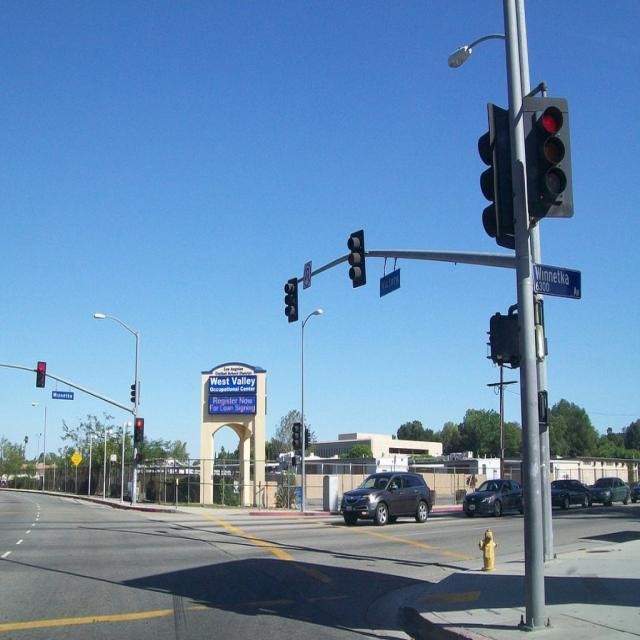off traffic light: (346, 228, 367, 288), (284, 277, 299, 323), (292, 422, 301, 450)
traffic light: (477, 103, 515, 251), (533, 105, 568, 205), (37, 361, 46, 388), (134, 418, 144, 442)
